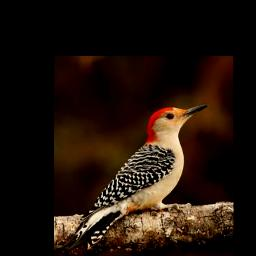Woodpecker: (57, 104, 207, 255)
